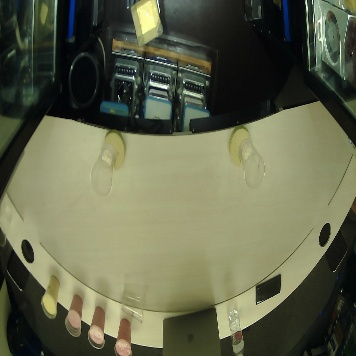empty_cup: (90, 145, 115, 197), (240, 137, 265, 189)
full_cup: (40, 275, 61, 321), (63, 292, 84, 338), (86, 304, 107, 350), (113, 317, 132, 356)
puck: (103, 131, 127, 171), (226, 126, 250, 166)
